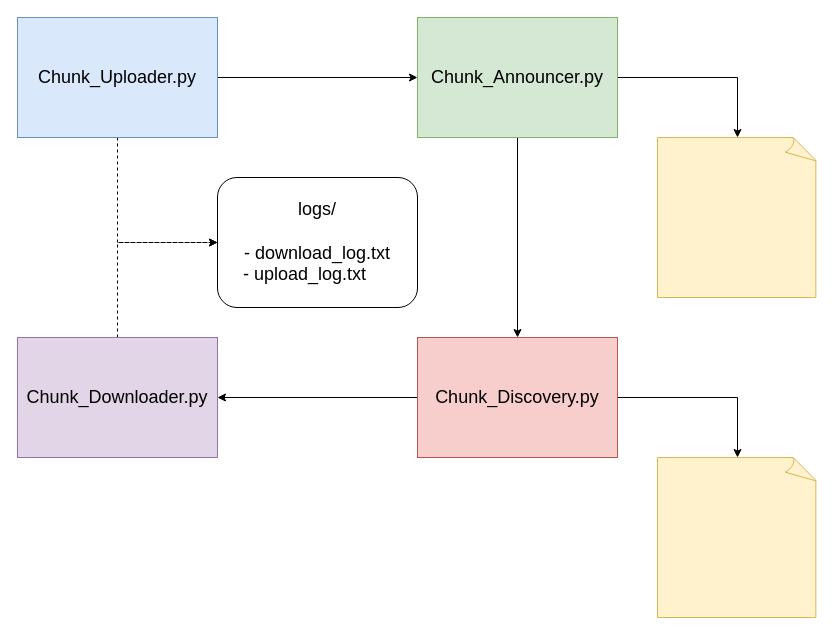
Image size: 835x635. Some labels were removed from this diagram. The centre of each missing label's shape, as x and y in pixels:
announceFile.json: point (737, 217)
contentDictionary.json: point (737, 537)
